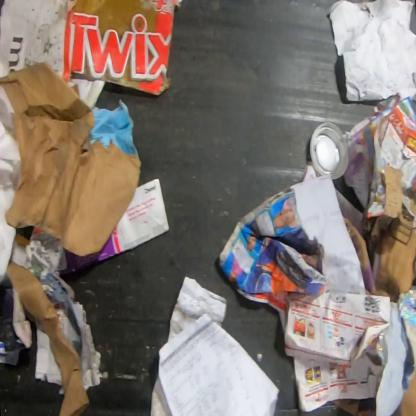cardboard: (0, 60, 143, 256), (7, 258, 92, 415), (60, 0, 184, 98), (343, 165, 415, 302), (374, 300, 415, 415), (166, 276, 228, 344), (67, 79, 106, 108), (149, 371, 173, 415), (329, 398, 376, 415), (30, 228, 52, 242), (15, 232, 30, 248)
rigid_plastic: (309, 121, 351, 180)
soft_plastic: (396, 284, 415, 328), (375, 332, 388, 368)
